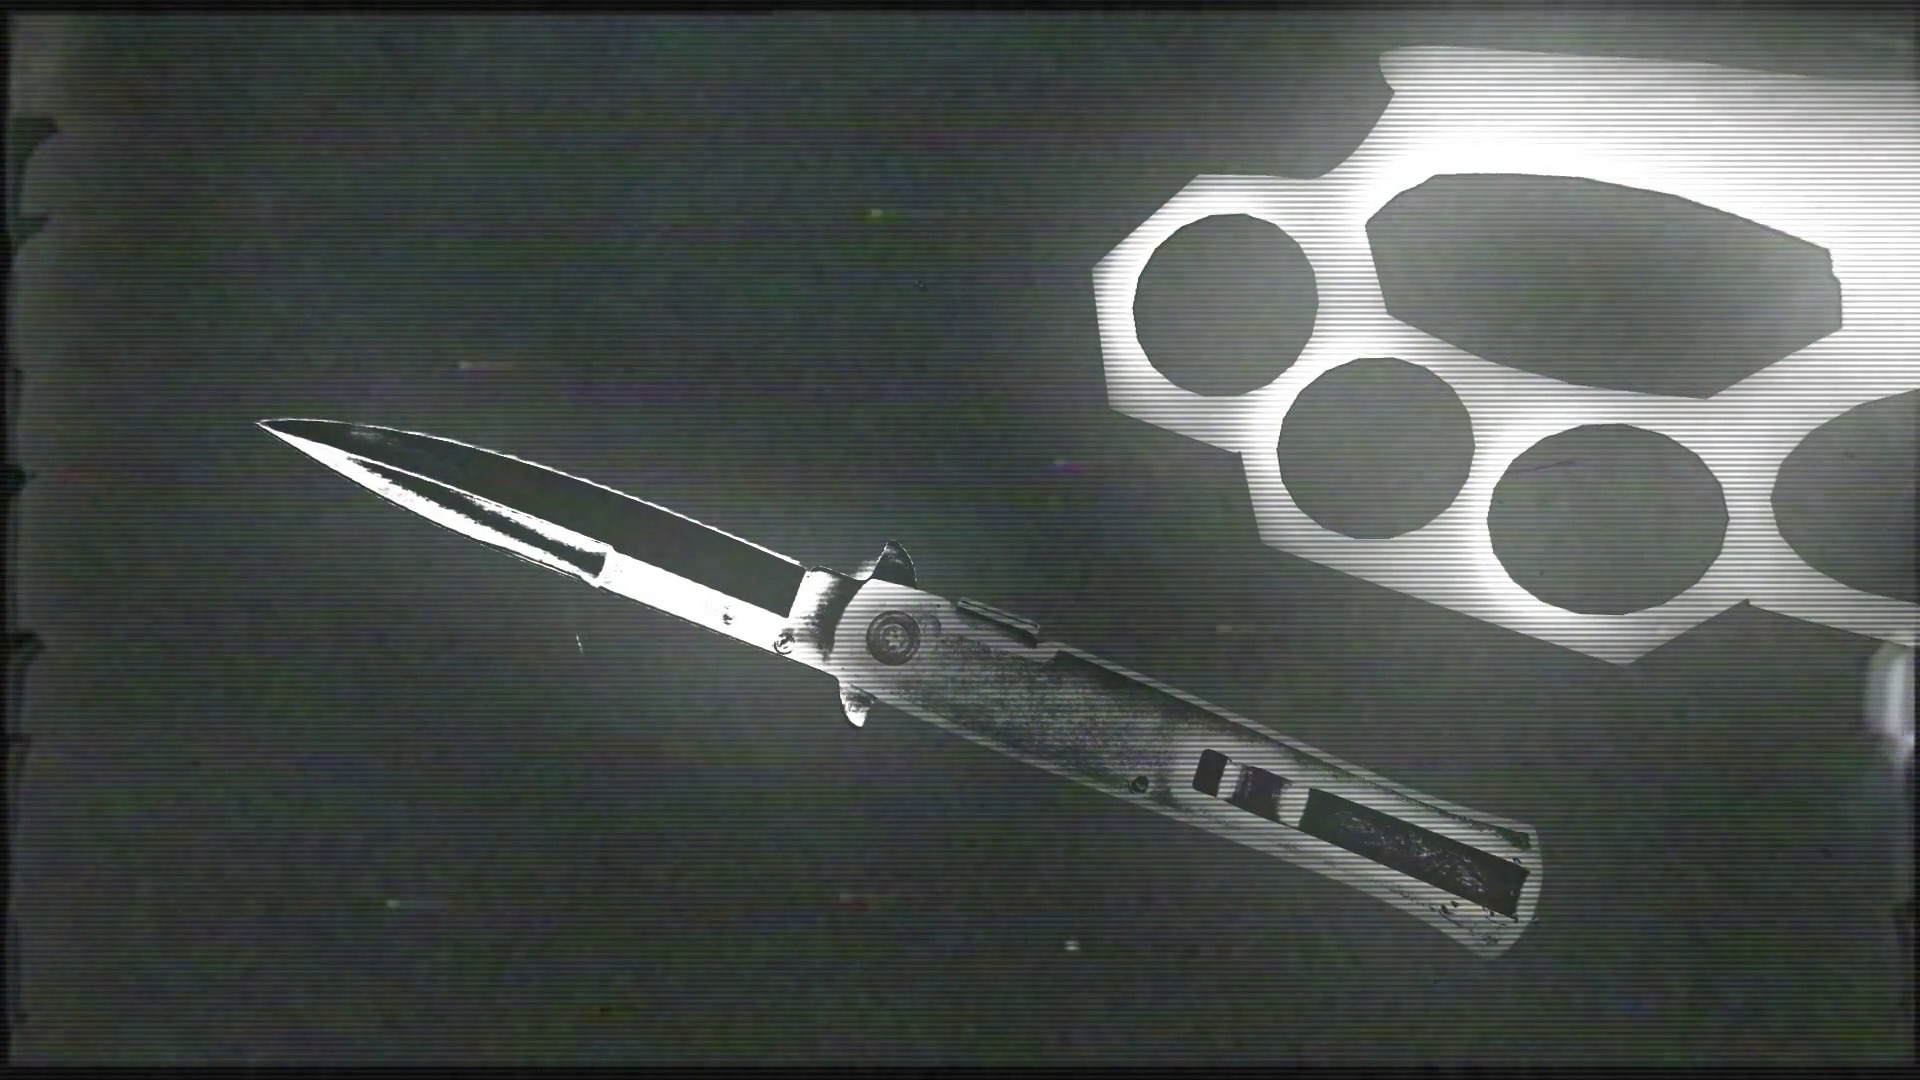knife: (251, 397, 1567, 968)
